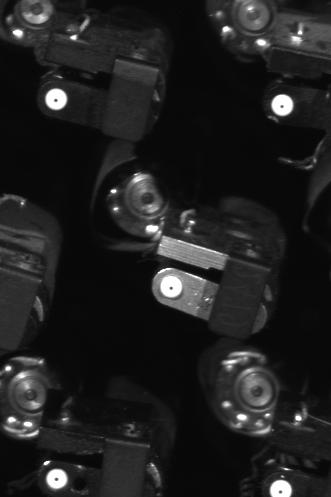fiber: (156, 273, 190, 304), (266, 90, 296, 122), (39, 84, 71, 113), (263, 475, 300, 497), (41, 465, 70, 493)
